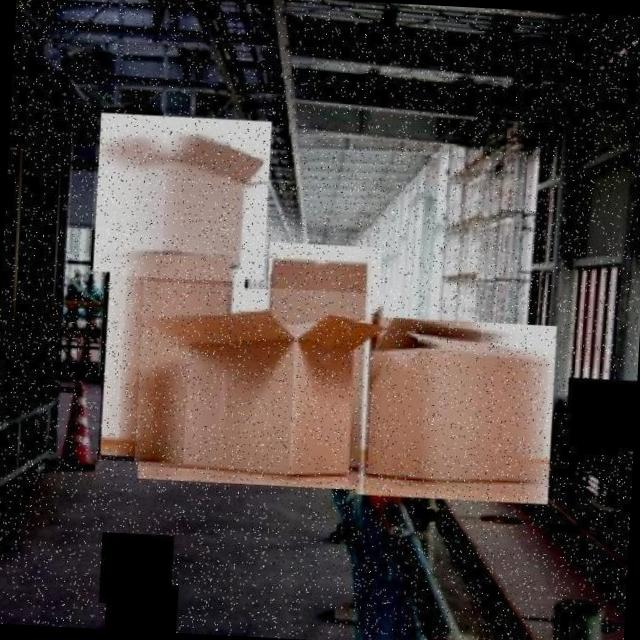box: (134, 282, 388, 494), (352, 314, 558, 508), (97, 244, 248, 467), (89, 110, 274, 284), (263, 242, 384, 328)
